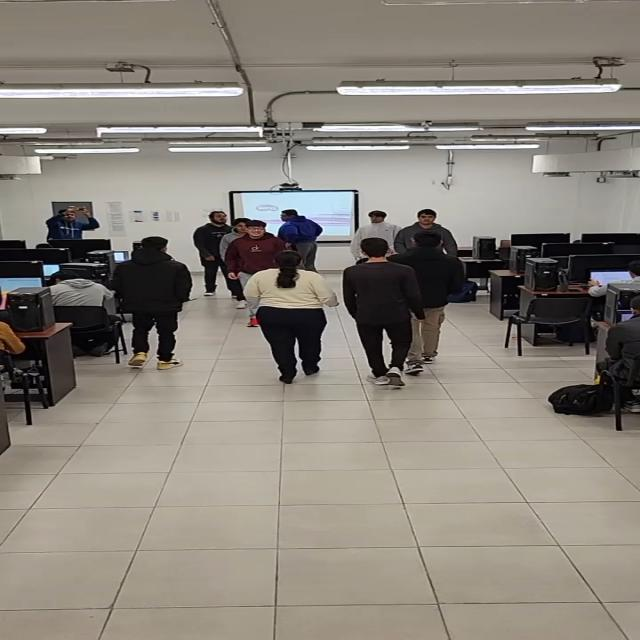Persona: (342, 236, 423, 394), (246, 248, 336, 384), (113, 234, 194, 374), (402, 228, 456, 376), (194, 210, 232, 300), (234, 214, 278, 273), (278, 207, 320, 267)
